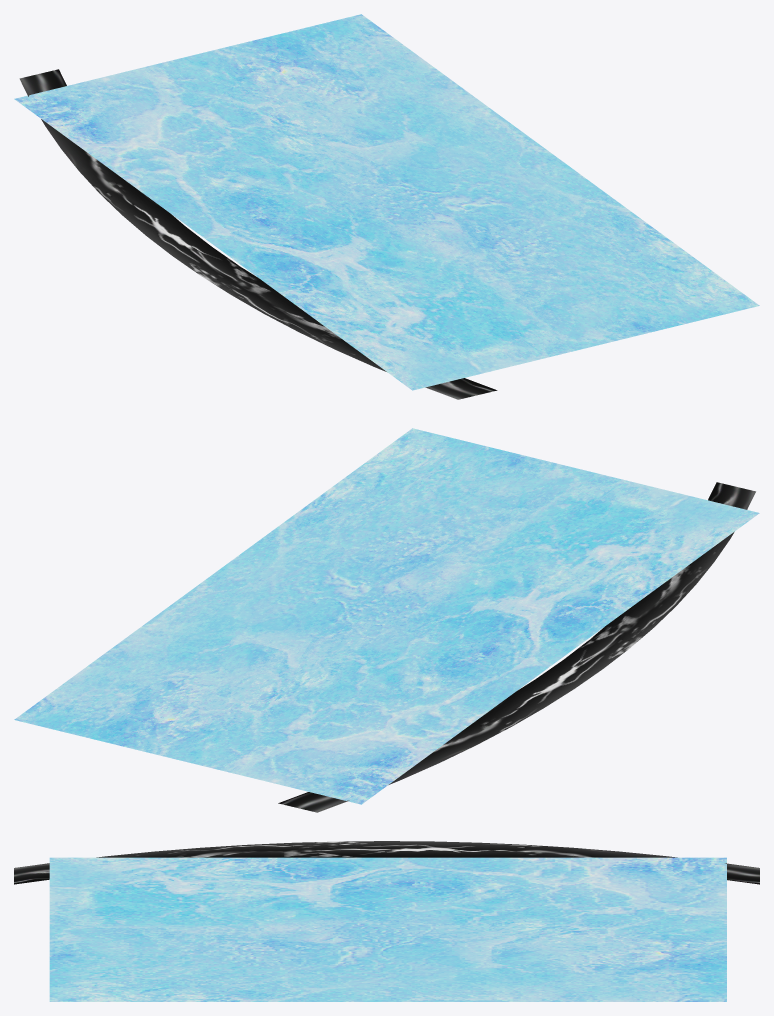
The model's file is langhua_effect.FBX.
3 renders of one model, top to bottom at view 1: azimuth 30°, elevation 25°; view 2: azimuth 150°, elevation 25°; view 3: azimuth 270°, elevation 25°, orthographic. The views are drawn at different scales.
Parts seen in each view (by area): view 1: Plane001, Plane002; view 2: Plane001, Plane002; view 3: Plane001, Plane002.
Boxes of the visible parts, box(x1,y1,x2,y2) form: Plane001: box(14, 14, 759, 390); Plane002: box(19, 69, 497, 399); Plane001: box(14, 428, 759, 804); Plane002: box(278, 482, 755, 812); Plane001: box(49, 857, 726, 1001); Plane002: box(14, 841, 759, 884).
Size of the model in its own units: 1156 by 2.71 by 2259.
